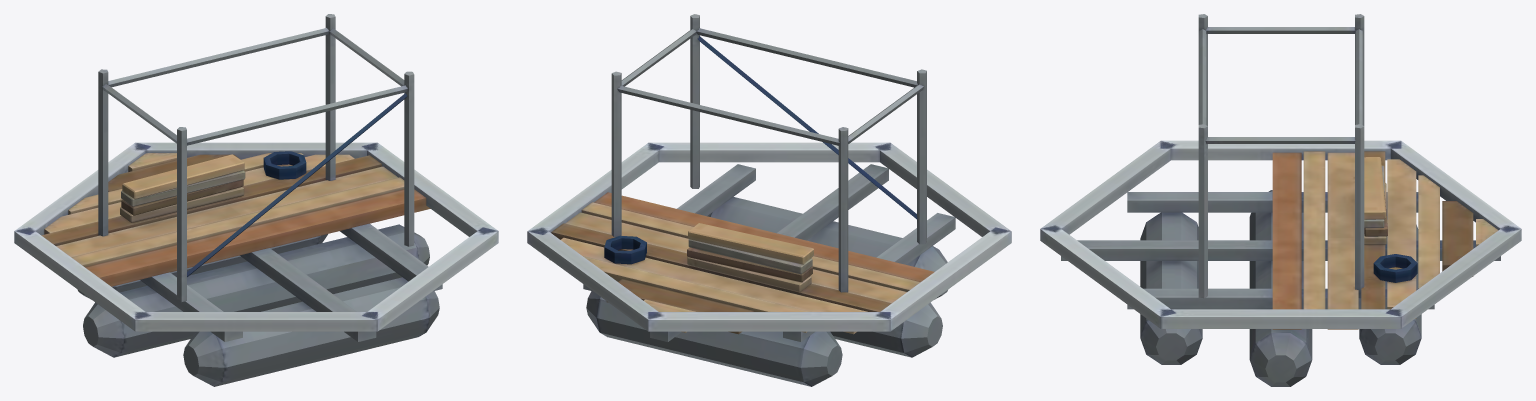
The model's file is raft-yard-age20.glb.
3 views of the same model, side by side, from view 1: azimuth 30°, elevation 25°; view 2: azimuth 150°, elevation 25°; view 3: azimuth 270°, elevation 25° (orthographic).
Parts seen in each view (by area): view 1: raft-yard-age20; view 2: raft-yard-age20; view 3: raft-yard-age20.
Part boxes in pixels (x1=…): raft-yard-age20: x1=14, y1=14, x2=498, y2=386; raft-yard-age20: x1=527, y1=14, x2=1011, y2=386; raft-yard-age20: x1=1040, y1=14, x2=1521, y2=386.
Size of the model in its own units: 1.6 by 1.03 by 1.85.
Materials: 1 (1 with a texture image).
